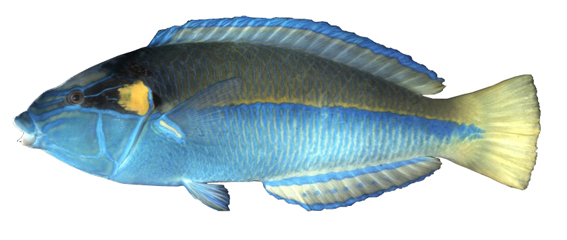fish: (12, 15, 542, 211)
